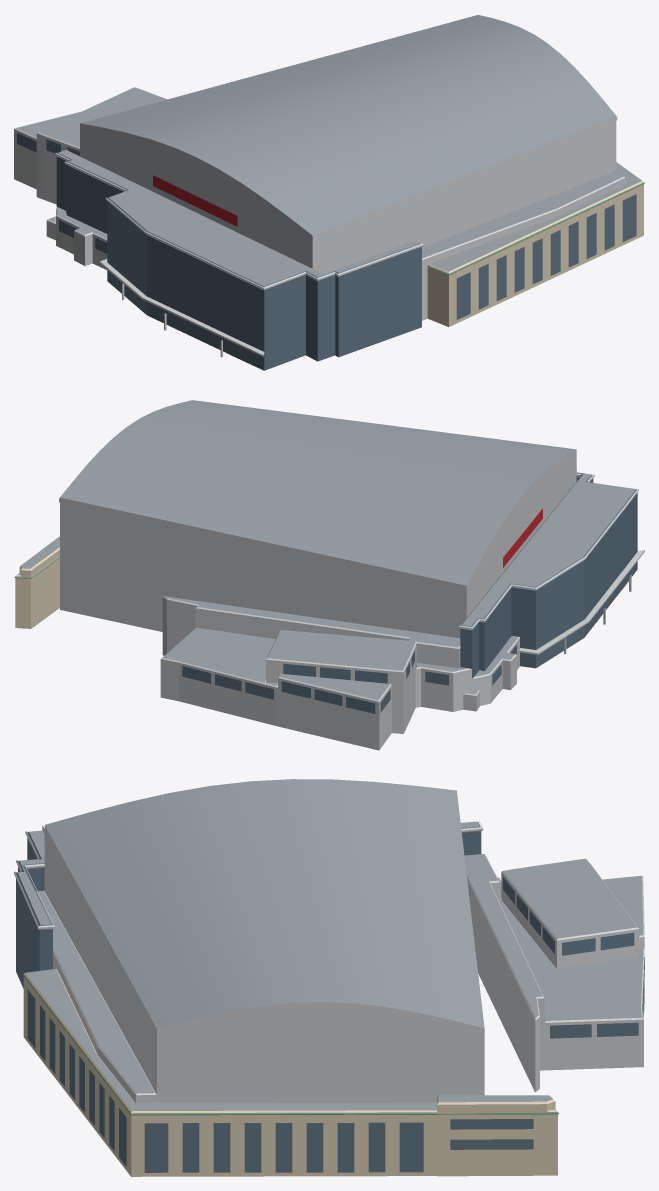
Rendered from tor-scotiabank-arena.glb.
3 renders of one model, top to bottom at view 1: azimuth 30°, elevation 25°; view 2: azimuth 150°, elevation 25°; view 3: azimuth 270°, elevation 25°, orthographic. The views are drawn at different scales.
Visible parts, largest first — view 1: Scotiabank Arena; view 2: Scotiabank Arena; view 3: Scotiabank Arena.
Part boxes in pixels (x1=…): Scotiabank Arena: x1=14, y1=15, x2=644, y2=370; Scotiabank Arena: x1=14, y1=400, x2=644, y2=750; Scotiabank Arena: x1=14, y1=779, x2=644, y2=1176.
Bounding box in the file's own units: 141 × 40.5 × 141.
